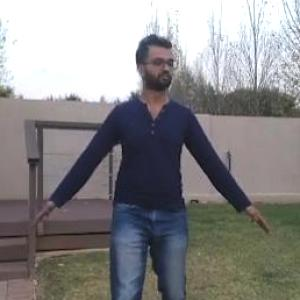land: (6, 8, 274, 299)
